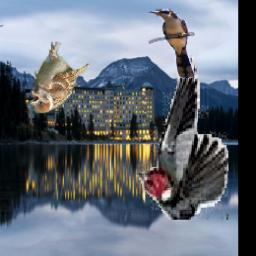Cuckoo: (150, 10, 196, 79)
Sparrow: (31, 43, 91, 114)
Woodpecker: (138, 51, 229, 220)
